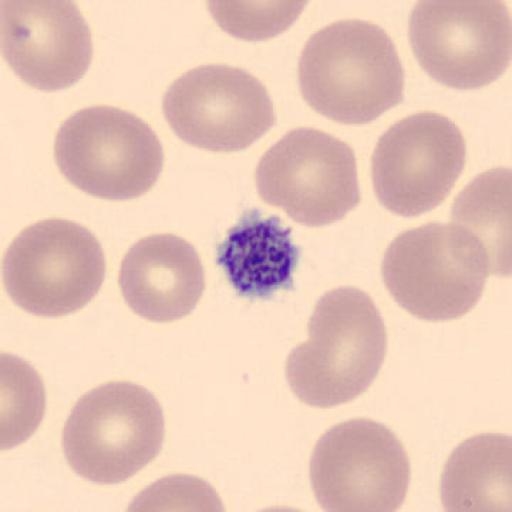Platelet: (214, 208, 304, 301)
RBC: (283, 284, 388, 410), (295, 16, 406, 128), (60, 378, 166, 488), (379, 219, 490, 324), (52, 103, 166, 204), (253, 124, 361, 230), (1, 214, 107, 320), (160, 61, 277, 155), (369, 109, 467, 220), (305, 414, 412, 512), (405, 0, 512, 93), (0, 0, 94, 95), (116, 230, 207, 326), (448, 164, 512, 282), (283, 335, 374, 410), (438, 430, 512, 512), (0, 348, 48, 453), (202, 0, 314, 44), (120, 469, 228, 512), (234, 499, 336, 512), (234, 503, 332, 512)
